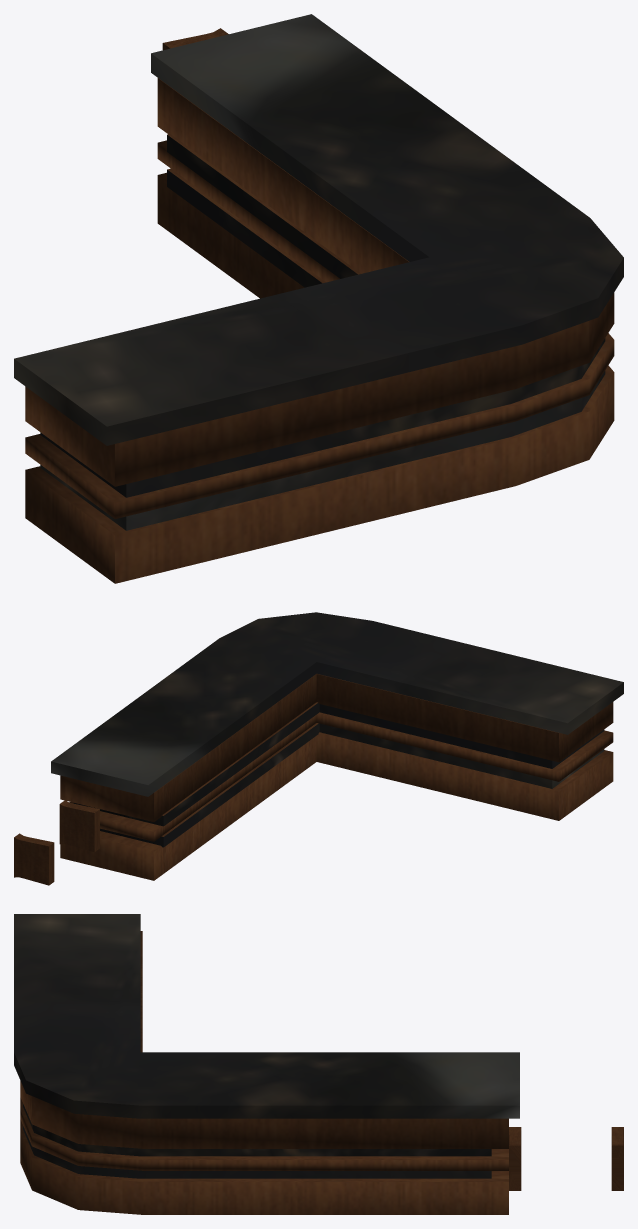
Rendered from counter.glb.
3 views of the same model, one above another, from view 1: azimuth 30°, elevation 25°; view 2: azimuth 150°, elevation 25°; view 3: azimuth 270°, elevation 25° (orthographic). The views are drawn at different scales.
Visible parts, largest first — view 1: Cube.002, Cube.003, Cube.001; view 2: Cube.002, Cube.003, Cube.001, Cube.004, Cube; view 3: Cube.002, Cube.003, Cube.001, Cube, Cube.004.
Part boxes in pixels (x1,y1,x2,y2): Cube.002: [14, 14, 623, 445]; Cube.003: [25, 77, 614, 583]; Cube.001: [40, 135, 605, 530]; Cube.002: [51, 612, 623, 796]; Cube.003: [60, 674, 613, 880]; Cube.001: [73, 703, 604, 847]; Cube.004: [14, 833, 54, 885]; Cube: [59, 800, 99, 852]; Cube.002: [14, 914, 519, 1118]; Cube.003: [20, 931, 508, 1214]; Cube.001: [23, 1104, 491, 1178]; Cube: [509, 1127, 521, 1190]; Cube.004: [611, 1127, 623, 1190].
Bounding box in the file's own units: 3.71 × 1.01 × 4.99.
3 materials, 3 textured.
